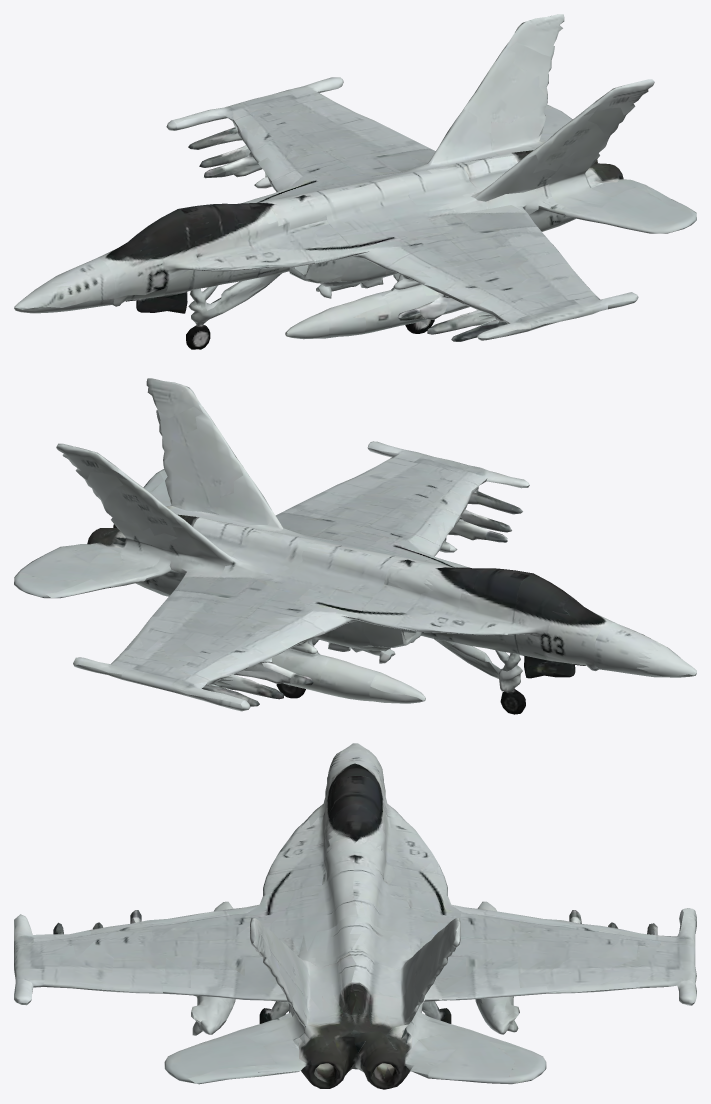
The model's file is caza.glb.
3 renders of one model, top to bottom at view 1: azimuth 30°, elevation 25°; view 2: azimuth 150°, elevation 25°; view 3: azimuth 270°, elevation 25°, orthographic. The views are drawn at different scales.
Size of the model in its own units: 1.91 by 0.6067 by 1.63.
Materials: 1 (1 with a texture image).
